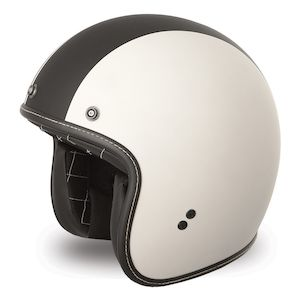with_helmet: (17, 8, 279, 278)
